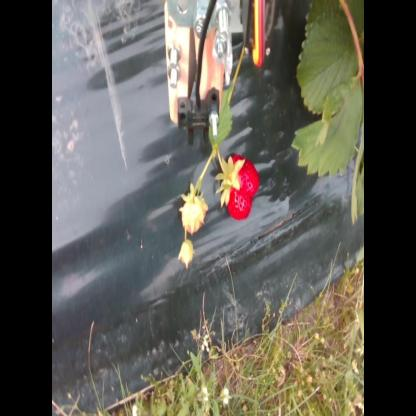ripe: (219, 150, 260, 224)
unripe: (179, 190, 210, 233), (179, 238, 195, 268)
